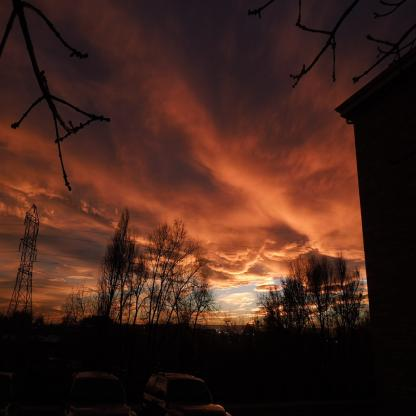Car: (140, 372, 232, 416), (58, 369, 140, 416)
